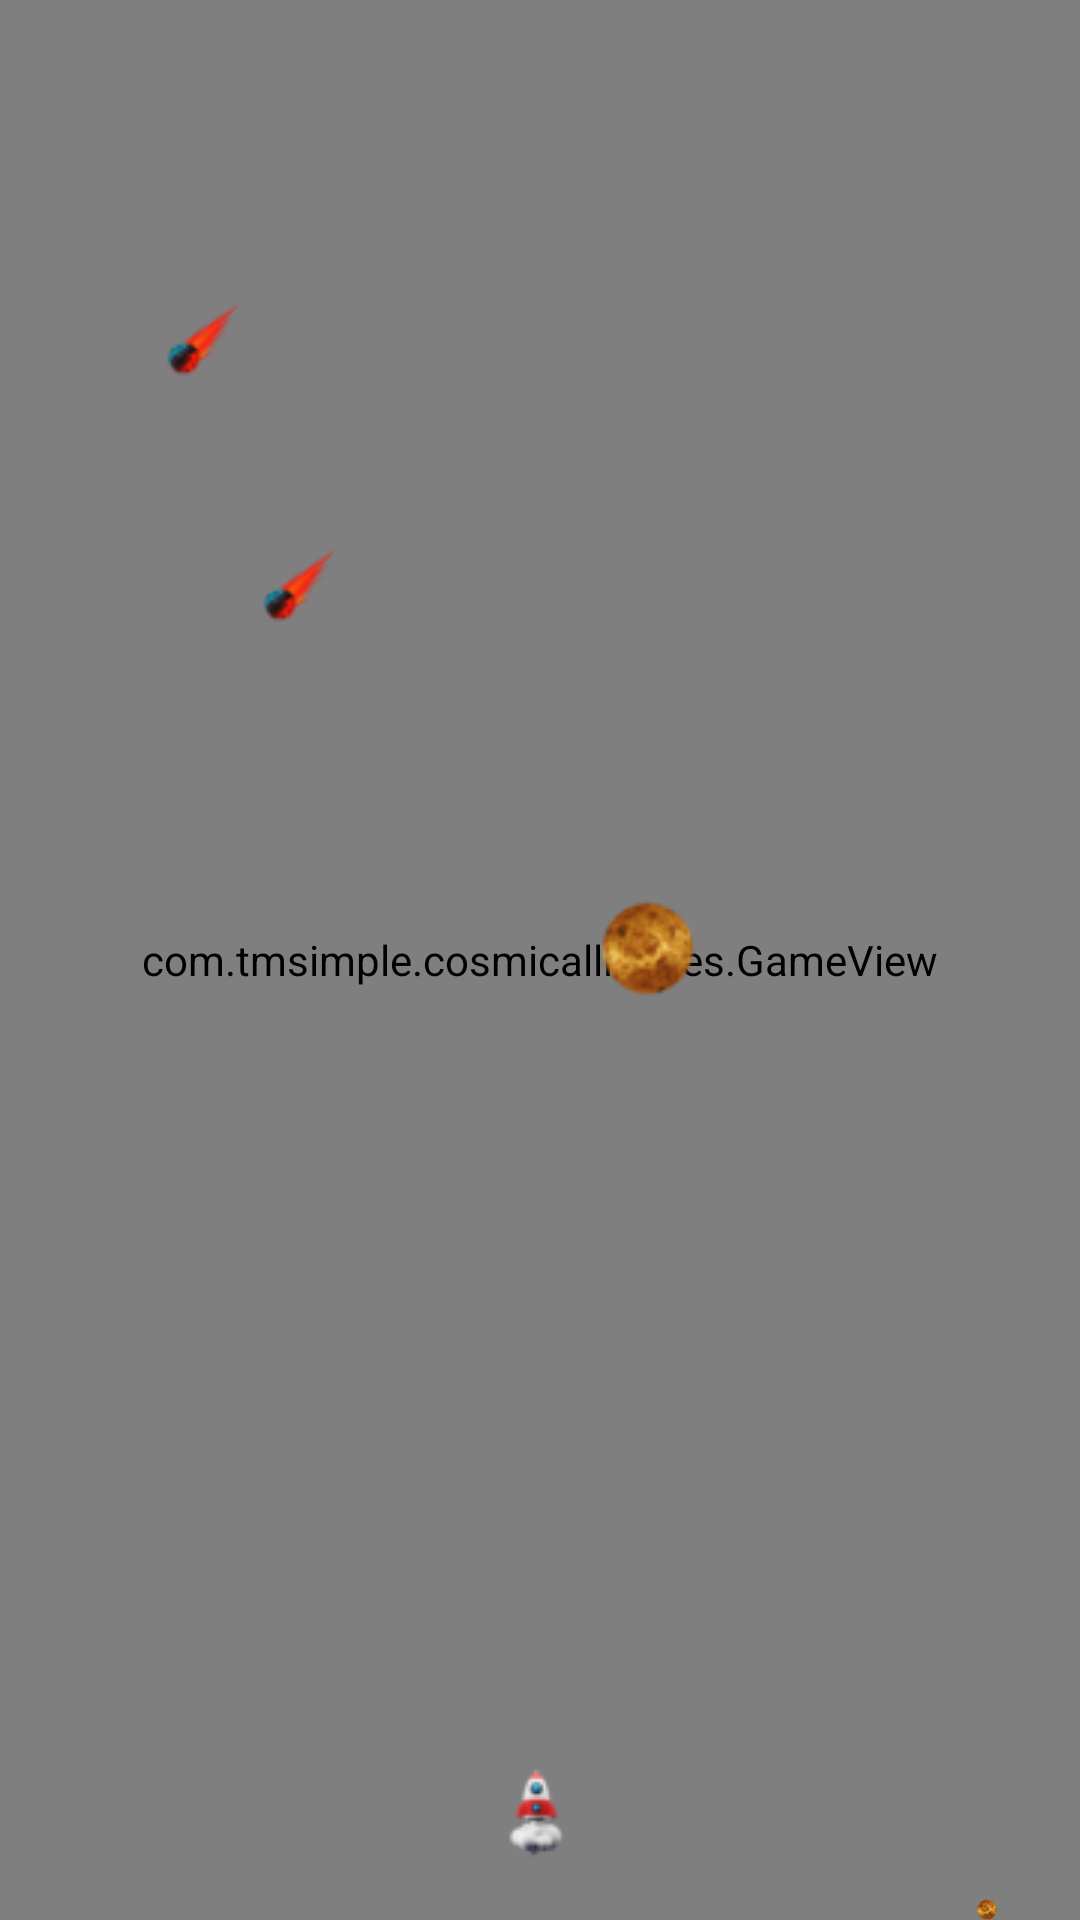

Named icons in this screenshot (1080×1920) and their bounding boxes, (x1, y1, x2, y2):
asteroids: (167, 307, 236, 375), (263, 553, 332, 621)
rocket: (510, 1770, 562, 1854)
